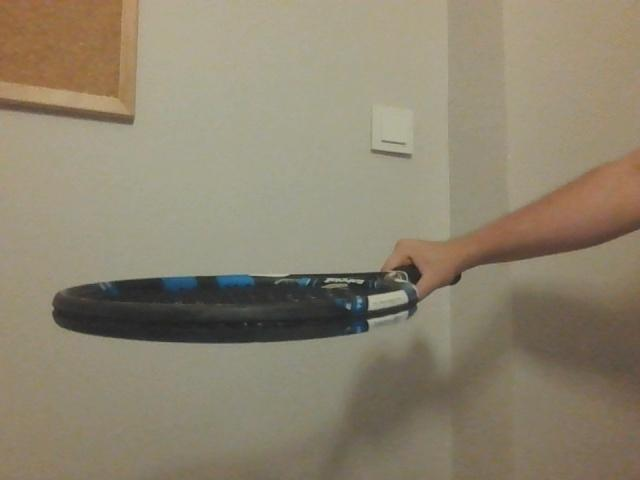Tennis-Racket: (54, 270, 461, 340)
